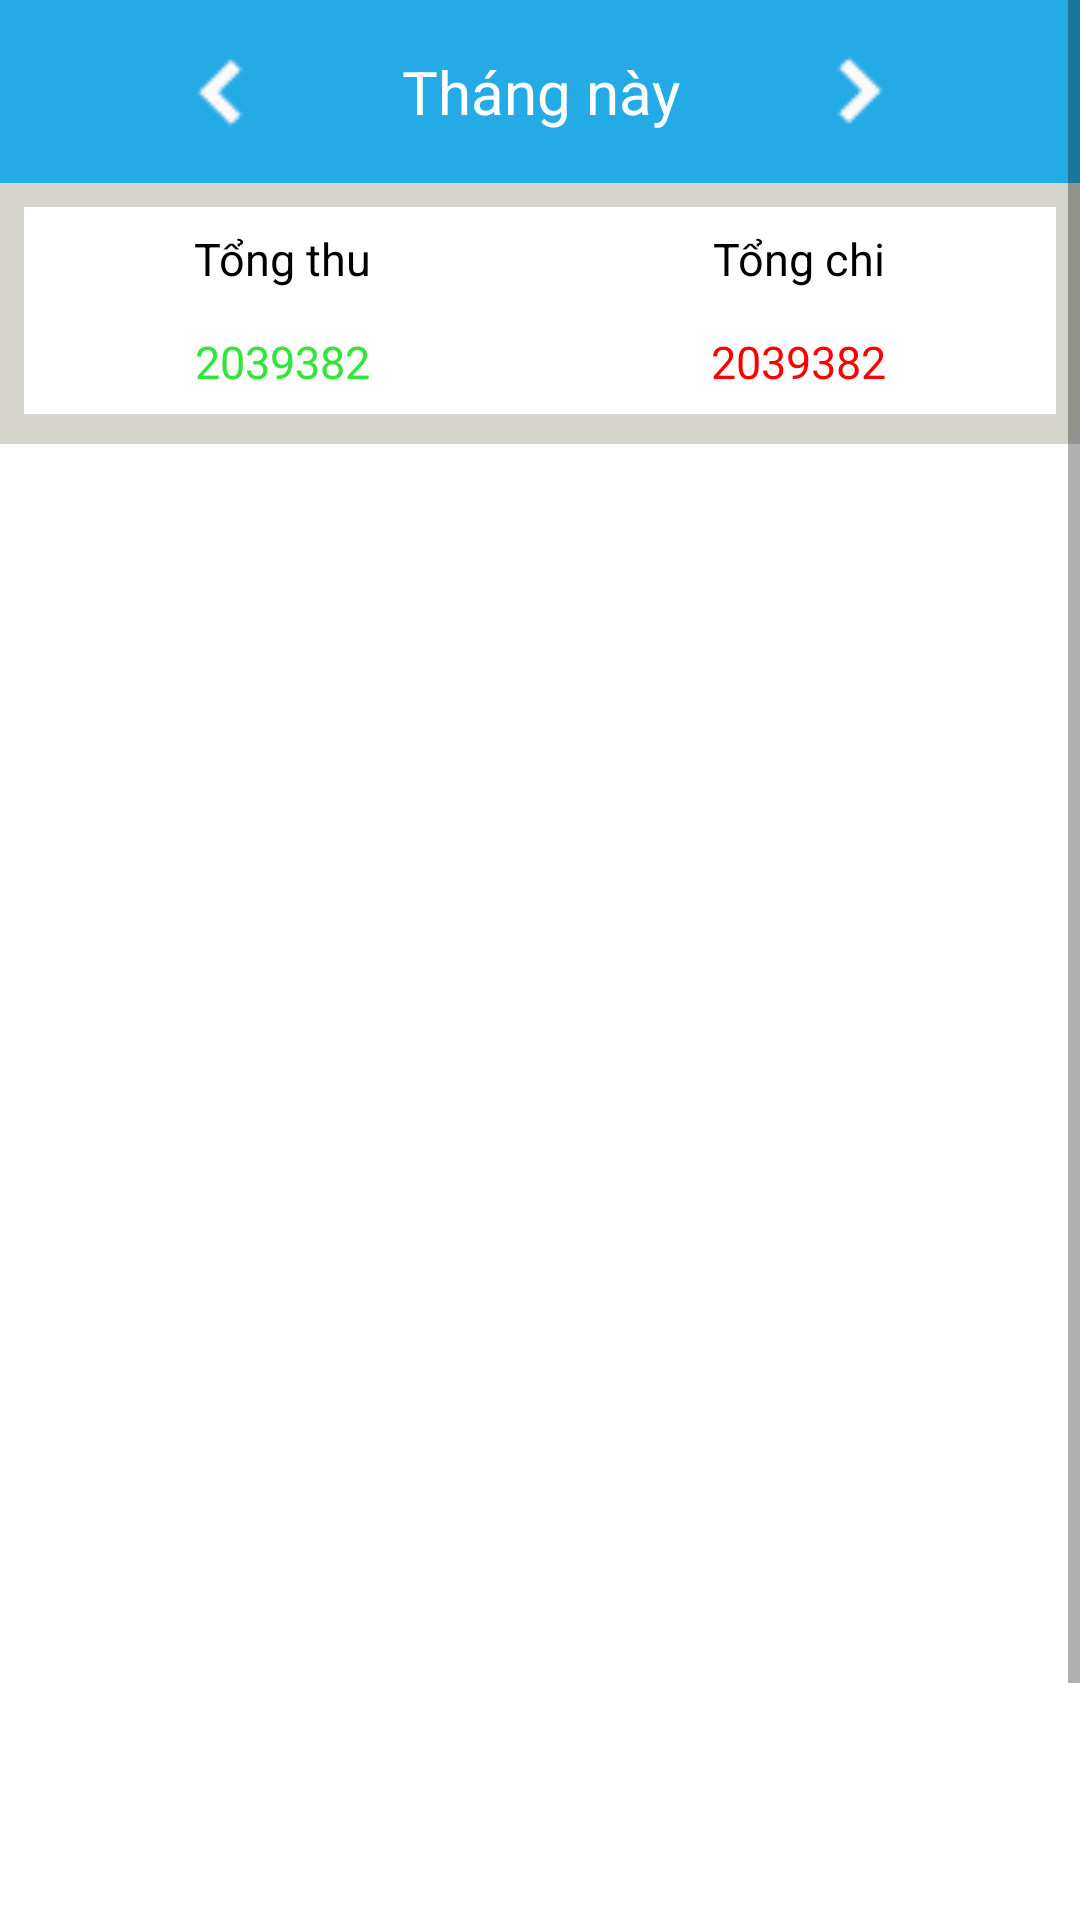

Screen size 1080w x 1920h. Icon name, then its box in pixels as (x1, y1, x2, y2):
chevron right: (838, 57, 882, 124)
left: (198, 59, 242, 126)
